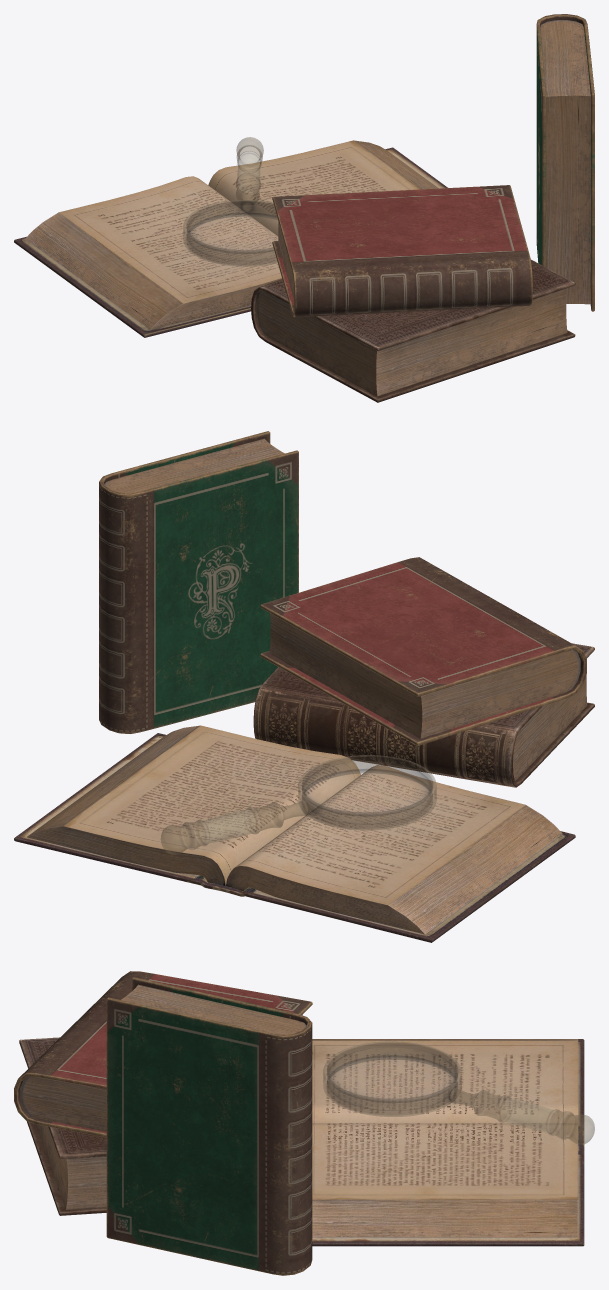
The picture shows the model from 3 angles, top to bottom: view 1: azimuth 30°, elevation 25°; view 2: azimuth 150°, elevation 25°; view 3: azimuth 270°, elevation 25°; orthographic projection. The views are drawn at different scales.
Visible parts, largest first — view 1: Open_book, Book_3, Book_1, Book_2, Magnifier; view 2: Open_book, Book_2, Book_3, Book_1, Magnifier; view 3: Open_book, Book_2, Book_3, Magnifier, Book_1.
Part boxes in pixels (<box>): Open_book: <box>14,140,447,337</box>; Book_3: <box>272,185,532,317</box>; Book_1: <box>251,259,575,402</box>; Book_2: <box>536,14,594,311</box>; Magnifier: <box>183,137,277,266</box>; Open_book: <box>14,725,575,942</box>; Book_2: <box>99,431,298,733</box>; Book_3: <box>260,557,586,745</box>; Book_1: <box>253,643,594,787</box>; Magnifier: <box>161,755,436,854</box>; Open_book: <box>312,1039,584,1246</box>; Book_2: <box>106,977,312,1275</box>; Book_3: <box>14,971,312,1137</box>; Magnifier: <box>323,1041,594,1144</box>; Book_1: <box>19,1037,106,1215</box>.
Size of the model in its own units: 0.4027 by 0.1928 by 0.4216.
Materials: 5 (5 with a texture image).
